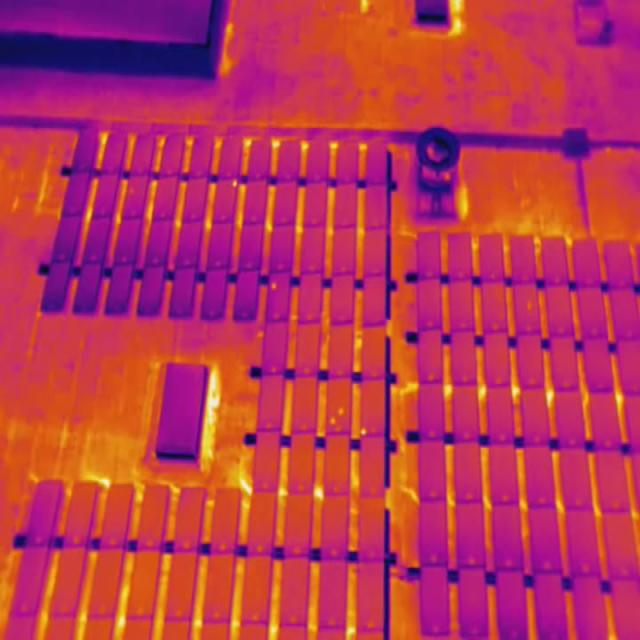Orange-Spots: (338, 407, 344, 415), (271, 282, 277, 290), (361, 428, 367, 435), (232, 180, 238, 187), (330, 418, 336, 424)
